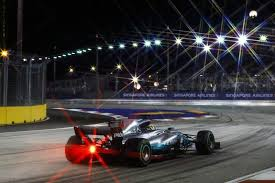FormulaOneCar: (63, 109, 228, 169)
